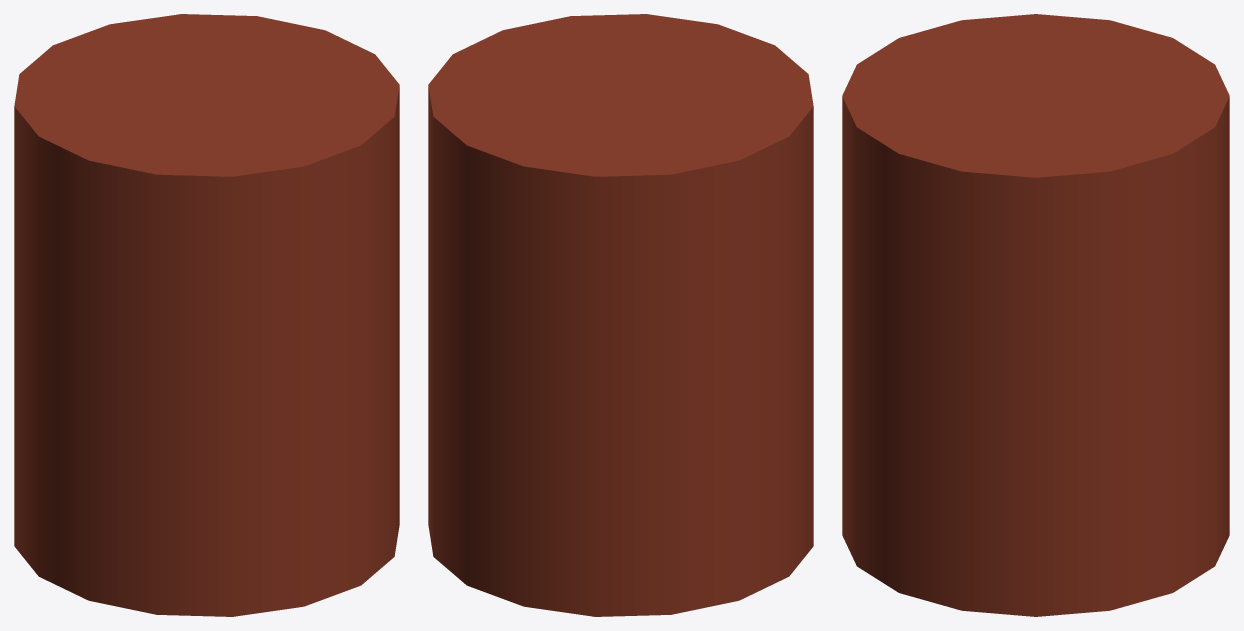
The model's file is barrel.glb.
3 renders of one model, left to right at view 1: azimuth 30°, elevation 25°; view 2: azimuth 150°, elevation 25°; view 3: azimuth 270°, elevation 25°, orthographic.
Visible parts, largest first — view 1: barrel-2; view 2: barrel-2; view 3: barrel-2.
Part boxes in pixels (x1,y1,x2,y2): barrel-2: (14,14,399,616); barrel-2: (428,14,813,616); barrel-2: (842,14,1229,616).
Size of the model in its own units: 0.8 by 1 by 0.8.
